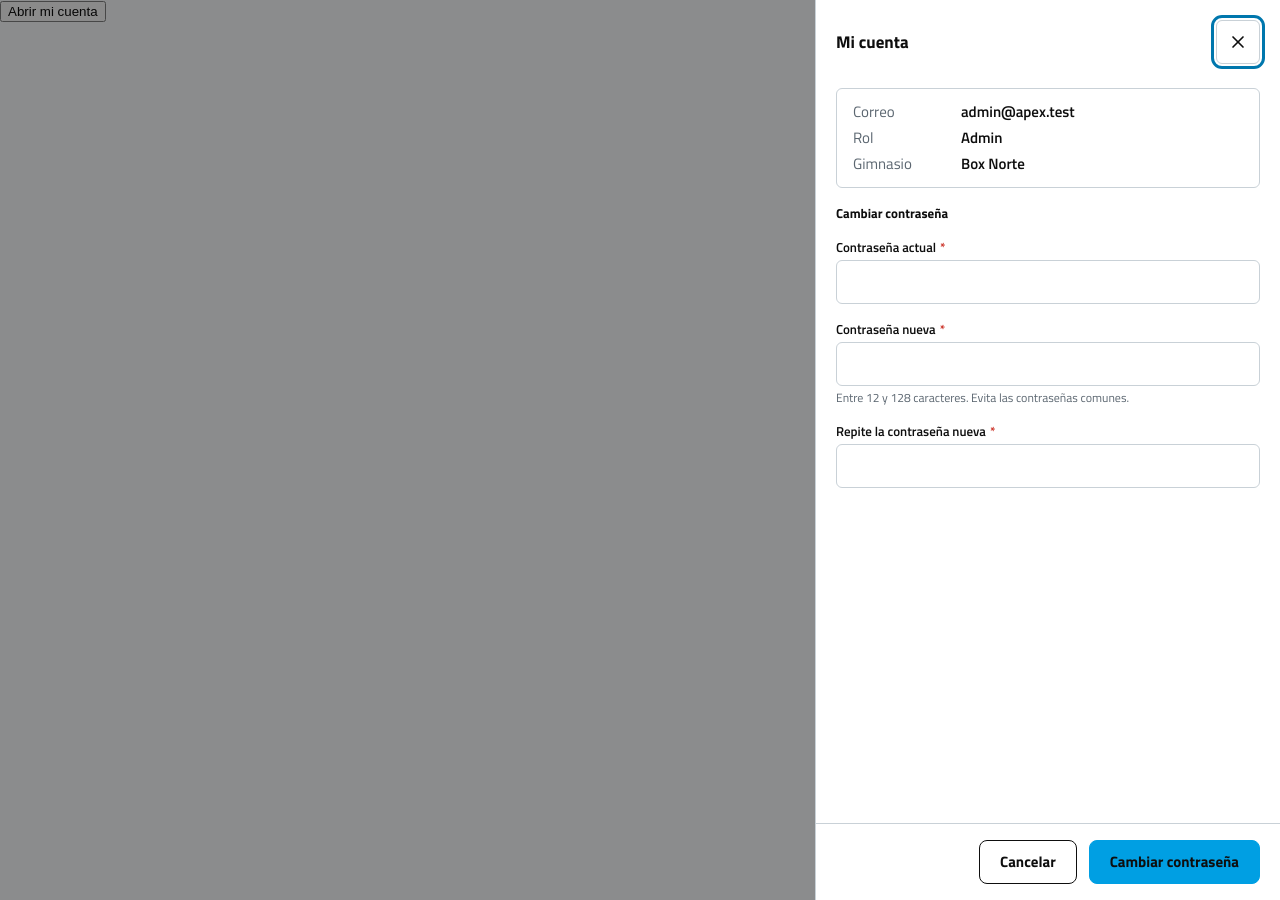
Scenario: ChangePasswordPanel · validación (Zod) › la nueva igual a la actual se rechaza
Type "Clave-nueva-segura-2026" into the password field labelled "Contraseña actual*". click: (1048, 282)
box: [836, 260, 1260, 304]
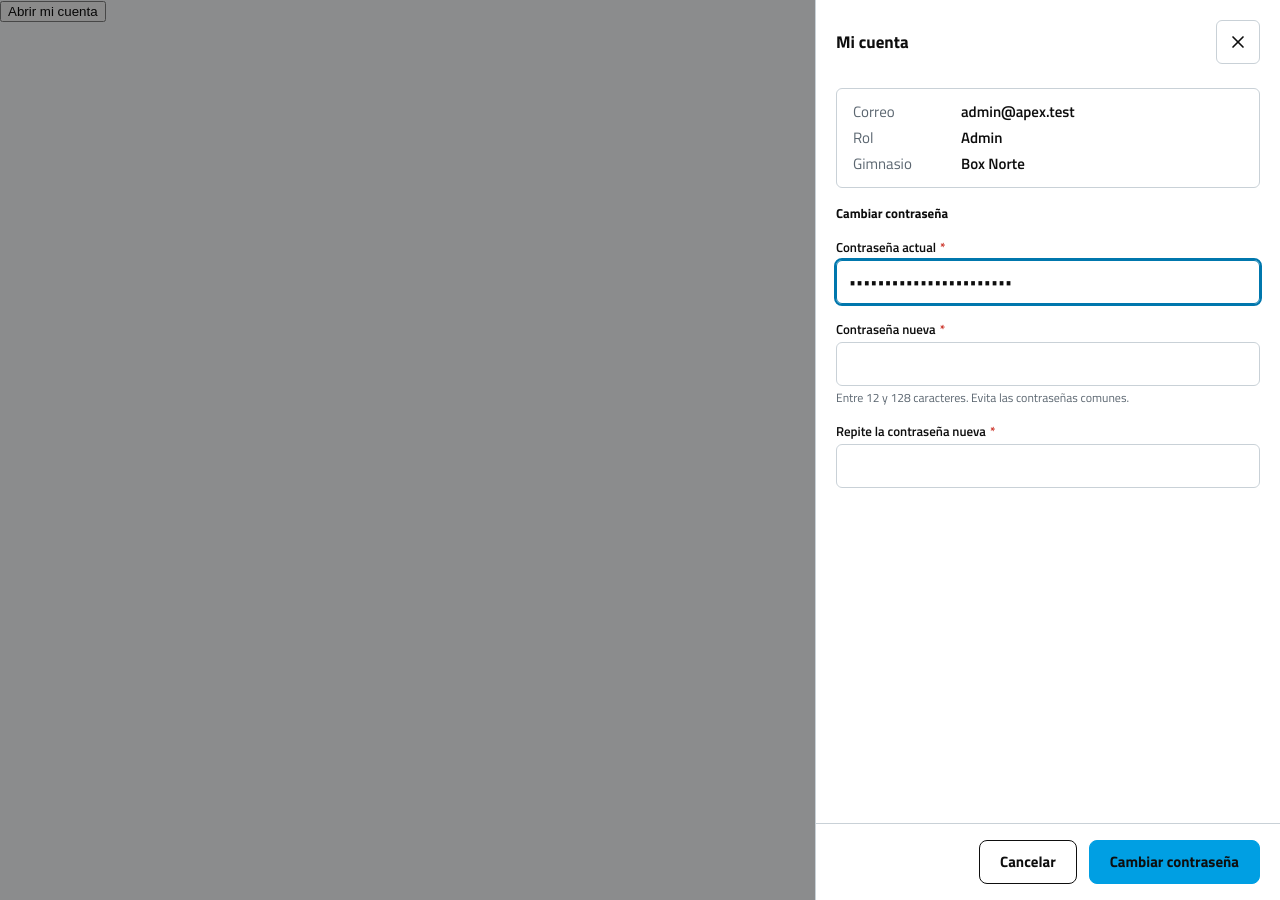
Type "Clave-nueva-segura-2026" into the password field labelled "Contraseña nueva*". click: (1048, 364)
box: [836, 342, 1260, 386]
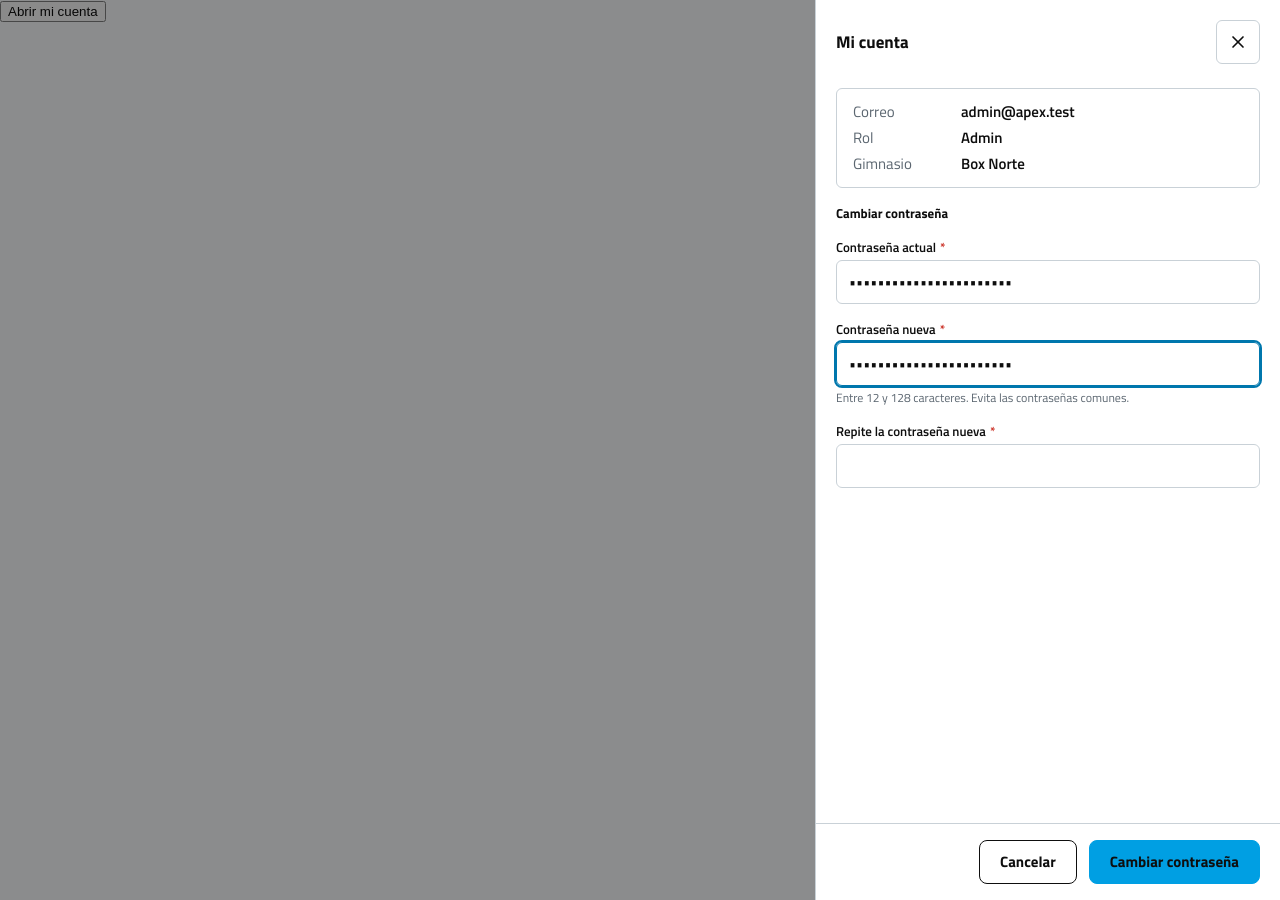
Type "Clave-nueva-segura-2026" into the password field labelled "Repite la contraseña nueva*". click: (1048, 466)
box: [836, 444, 1260, 488]
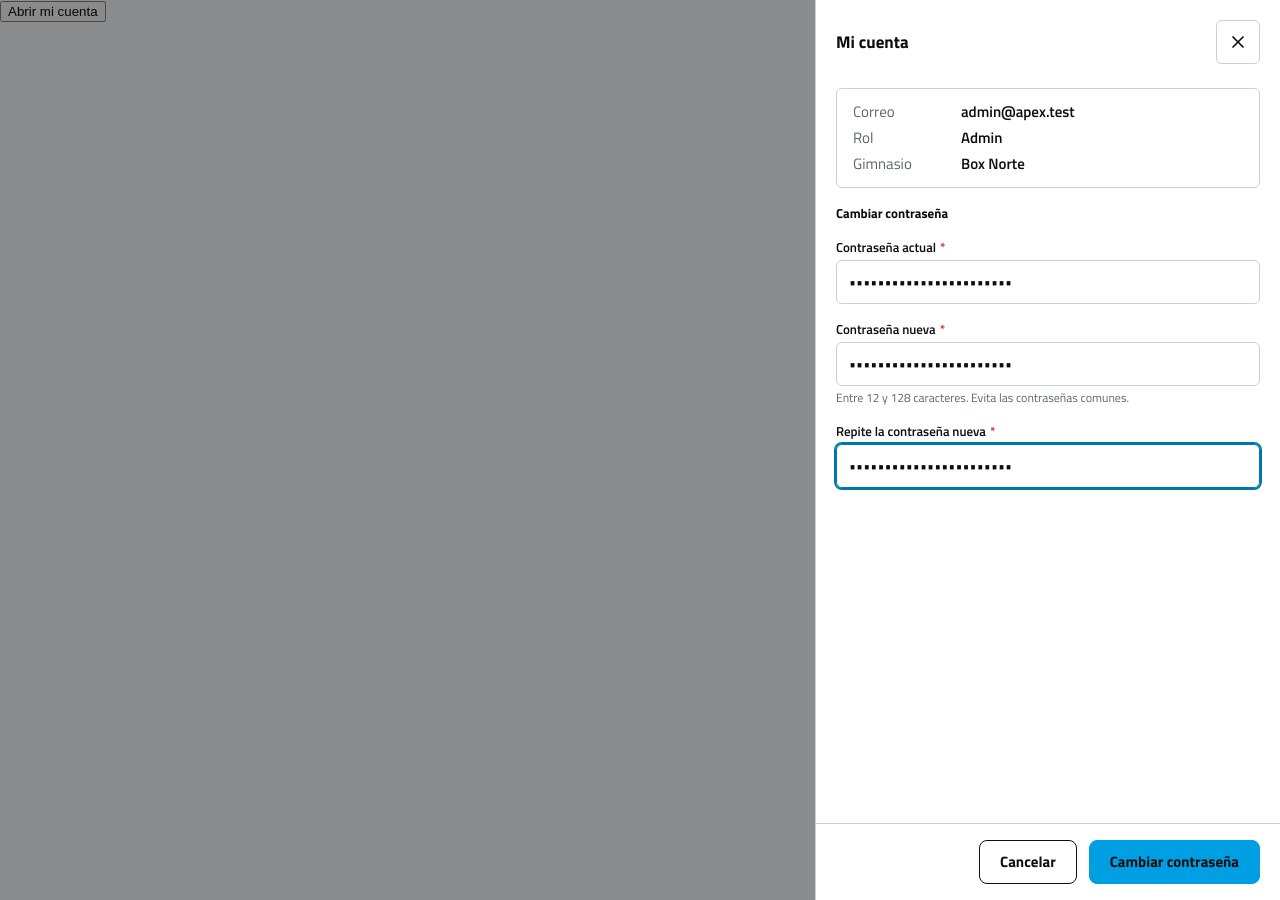
Click the button "Cambiar contraseña". click: (1174, 862)
box: [1089, 840, 1260, 884]
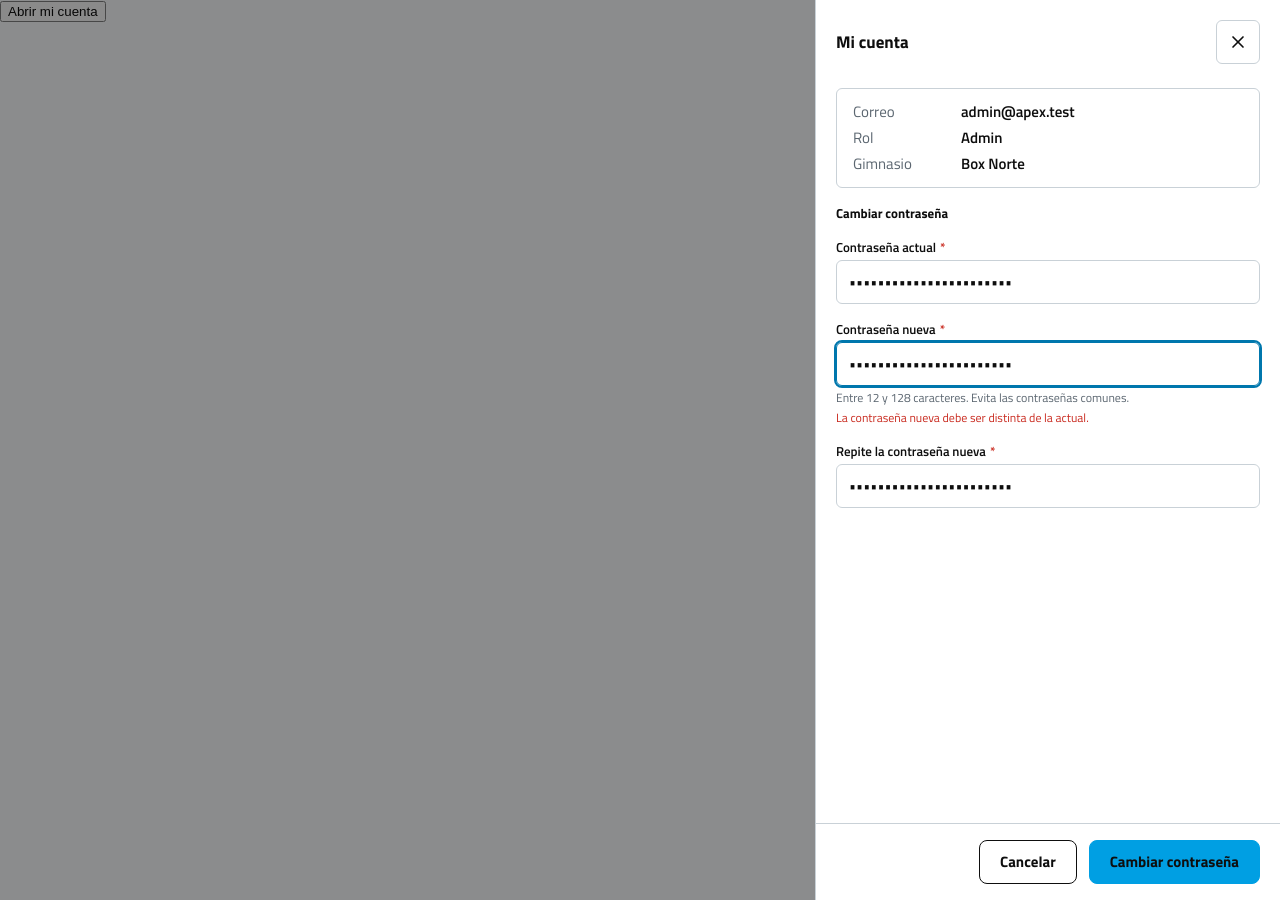
Check: the text "La contraseña nueva debe ser distinta de la actual." is shown, box [836, 408, 1089, 427]
